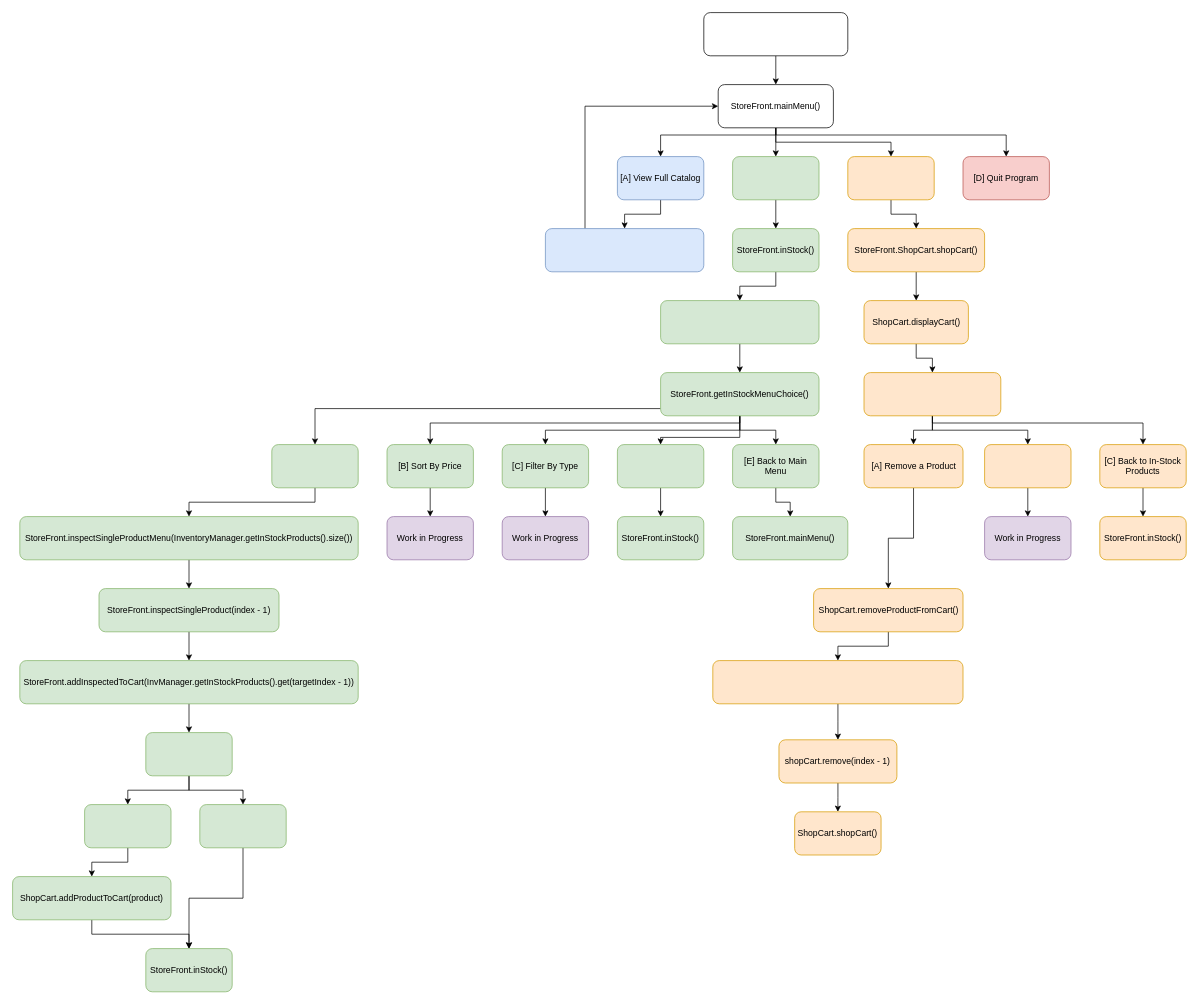
This 1199x1004 diagram has some shape labels left out. The shapes that lost their labels are listed below. From the top down, each one's centre as x and y in pixels, then its label:
At (x=775, y=34): "StoreFront.displayWelcomeMsg()".
At (x=775, y=178): "[B] View In-Stock Products".
At (x=890, y=178): "[C] View Shopping Cart".
At (x=624, y=250): "StoreFront.displayFullCatalog()".
At (x=739, y=322): "StoreFront.displayInStockProducts()".
At (x=932, y=394): "ShopCart.getShopMenuChoice()".
At (x=314, y=466): "[A] Inspect Single Product".
At (x=660, y=466): "[D] Reprint Inventory".
At (x=1027, y=466): "[B] Checkout".
At (x=837, y=682): "InvManager.updateProductQuantity(remProduct.getName(), 1)".
At (x=188, y=754): "Add to Cart?".
At (x=127, y=826): "[Y]".
At (x=242, y=826): "[N]".
